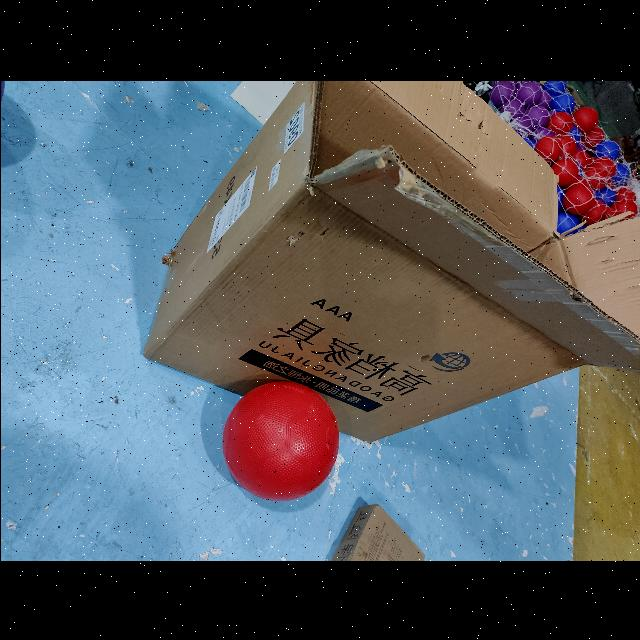B: (550, 210, 578, 238), (593, 139, 619, 163), (550, 92, 574, 114), (606, 162, 630, 184), (542, 80, 566, 98), (595, 185, 615, 205)
P: (489, 80, 517, 108), (516, 80, 540, 106), (508, 116, 532, 140), (501, 98, 524, 122), (526, 104, 548, 128), (528, 88, 550, 110), (532, 125, 554, 146), (507, 80, 529, 94)
R: (222, 379, 338, 501), (560, 186, 594, 214), (548, 157, 578, 185), (578, 198, 606, 226), (570, 106, 598, 132), (533, 134, 561, 160), (610, 198, 636, 225), (546, 111, 572, 135), (550, 134, 576, 158), (580, 167, 606, 190), (579, 124, 603, 148), (592, 156, 616, 178), (567, 148, 589, 170)
